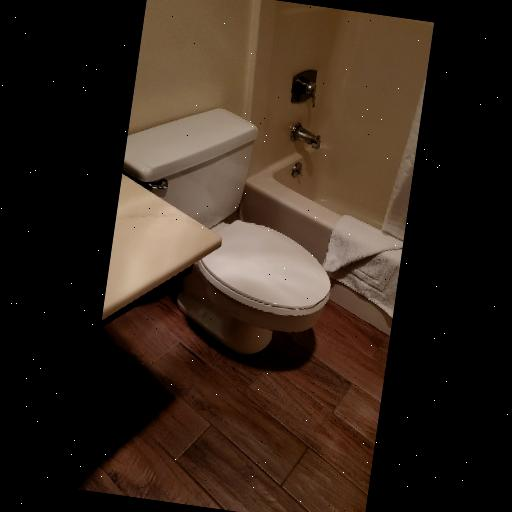clean_bathtub: (242, 123, 416, 340)
clean_floor: (74, 296, 394, 512)
